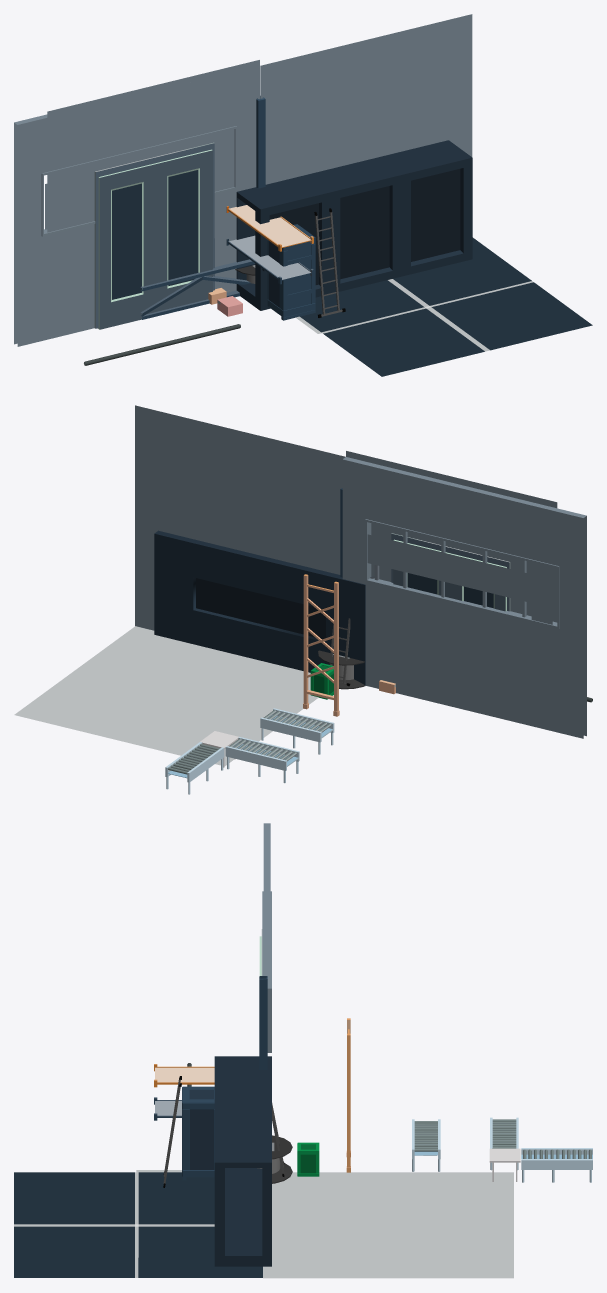
The model's file is WindowWall.fbx.
3 views of the same model, one above another, from view 1: azimuth 30°, elevation 25°; view 2: azimuth 150°, elevation 25°; view 3: azimuth 270°, elevation 25° (orthographic). The views are drawn at different scales.
Visible parts, largest first — view 1: SM_Wall_Outer_600, SM_Wall_Outer_Window_B_800.001, SM_Transporter_01, SM_Ground_1200, SM_DoorFrame_A1_200, SM_Door_A1.001, SM_Door_A1, SM_Big_Box_02, SM_Beam_Ceiling_400, SM_Rack_100.001, SM_Rack_100, SM_Stairs_01 (+2 smaller); view 2: SM_Wall_Outer_Window_B_800.001, SM_Wall_Outer_600, SM_Ground_400, SM_Transporter_01, SM_Wall_Outer_Window_B_800, SM_DoorFrame_A1_200, SM_Transporter_200.002, SM_Rack_01, SM_Transporter_200.001, SM_Door_A1.001, SM_Door_A1, SM_Reel_01 (+1 smaller); view 3: SM_Ground_400, SM_Ground_1200, SM_Transporter_01, SM_Transporter_200.002, SM_Big_Box_02, SM_Wall_Outer_Window_B_800.001, SM_Rack_100.001, SM_Transporter_200.001, SM_Pole_01, SM_Big_Box_01, SM_Reel_01, SM_Rack_01.
Part boxes in pixels (bbox=[...]): SM_Wall_Outer_600: bbox=[260, 14, 472, 184]; SM_Wall_Outer_Window_B_800.001: bbox=[14, 66, 259, 346]; SM_Transporter_01: bbox=[236, 140, 472, 310]; SM_Ground_1200: bbox=[300, 237, 592, 376]; SM_DoorFrame_A1_200: bbox=[47, 60, 259, 331]; SM_Door_A1.001: bbox=[98, 163, 156, 329]; SM_Door_A1: bbox=[156, 149, 212, 311]; SM_Big_Box_02: bbox=[267, 224, 315, 320]; SM_Beam_Ceiling_400: bbox=[140, 259, 255, 319]; SM_Rack_100.001: bbox=[226, 205, 313, 251]; SM_Rack_100: bbox=[226, 235, 313, 284]; SM_Stairs_01: bbox=[314, 208, 345, 317]; SM_Wall_Outer_Window_B_800.001: bbox=[342, 457, 586, 738]; SM_Wall_Outer_600: bbox=[135, 405, 345, 630]; SM_Ground_400: bbox=[14, 626, 318, 765]; SM_Transporter_01: bbox=[154, 530, 365, 685]; SM_Wall_Outer_Window_B_800: bbox=[343, 528, 552, 731]; SM_DoorFrame_A1_200: bbox=[346, 451, 557, 622]; SM_Transporter_200.002: bbox=[165, 731, 299, 794]; SM_Rack_01: bbox=[303, 574, 339, 716]; SM_Transporter_200.001: bbox=[260, 708, 334, 754]; SM_Door_A1.001: bbox=[449, 553, 506, 611]; SM_Door_A1: bbox=[393, 539, 449, 597]; SM_Reel_01: bbox=[318, 650, 364, 689]; SM_Ground_400: bbox=[263, 1172, 513, 1278]; SM_Ground_1200: bbox=[14, 1172, 262, 1277]; SM_Transporter_01: bbox=[214, 1056, 271, 1266]; SM_Transporter_200.002: bbox=[489, 1117, 592, 1182]; SM_Big_Box_02: bbox=[182, 1086, 214, 1180]; SM_Wall_Outer_Window_B_800.001: bbox=[262, 823, 271, 1052]; SM_Rack_100.001: bbox=[154, 1064, 214, 1087]; SM_Transporter_200.001: bbox=[412, 1119, 440, 1171]; SM_Pole_01: bbox=[259, 976, 267, 1069]; SM_Big_Box_01: bbox=[297, 1142, 319, 1176]; SM_Reel_01: bbox=[257, 1135, 292, 1183]; SM_Rack_01: bbox=[346, 1018, 350, 1172].
Size of the model in its own units: 1501 by 722 by 1614.
